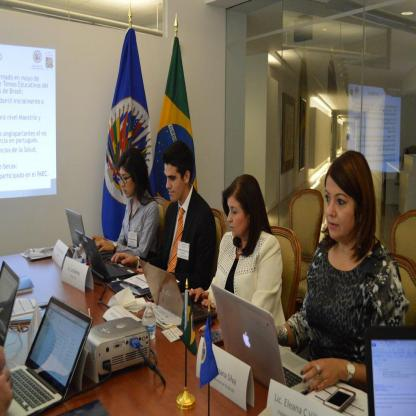board: (211, 286, 319, 390), (2, 297, 92, 416), (138, 260, 217, 323), (362, 326, 416, 416), (76, 231, 137, 282), (0, 260, 20, 346), (65, 210, 84, 250)
